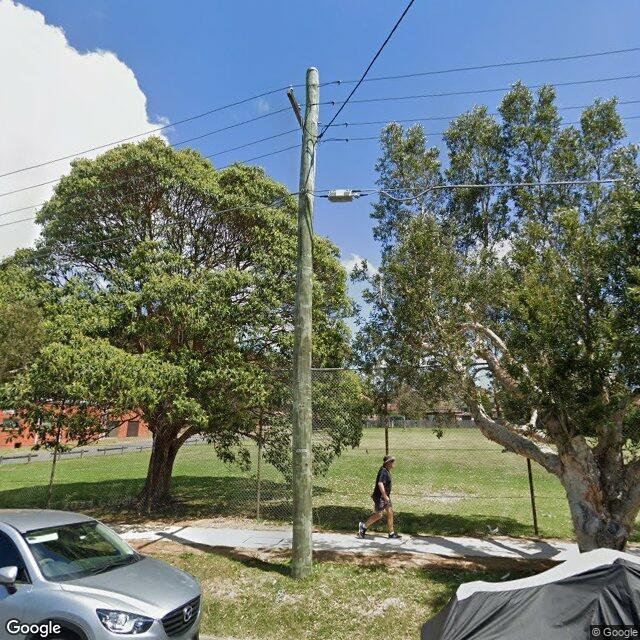crossarm: (287, 85, 305, 132)
timber-pole: (290, 67, 320, 580)
